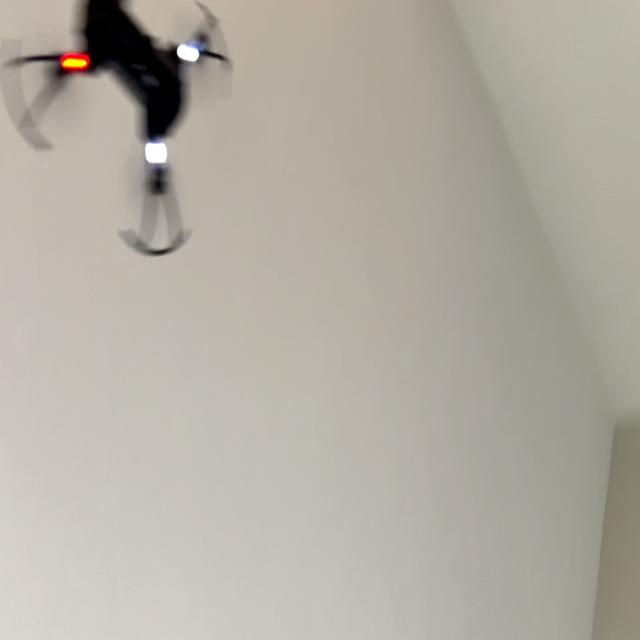drone: (0, 0, 245, 279)
